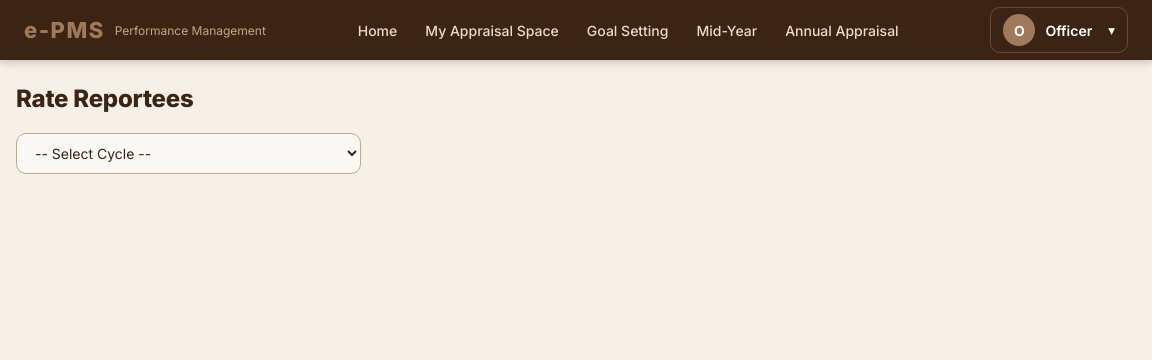
Test case: Rating Page › loads appraisals after cycle selection
Select "FY 2024-25 (ANNUAL APPRAISAL · ACTIVE)" in the dropdown. click: point(188, 154)
box: 16,133 -> 361,174
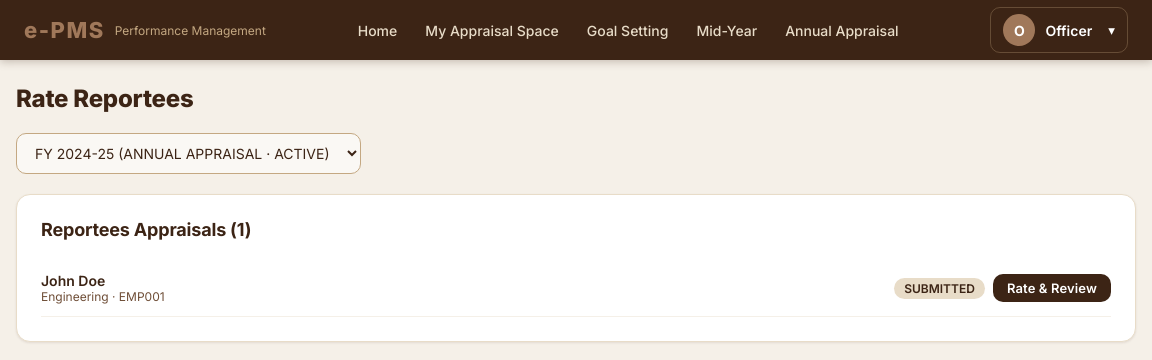
Check: the text "John Doe" is shown, box 41,272 -> 105,289
